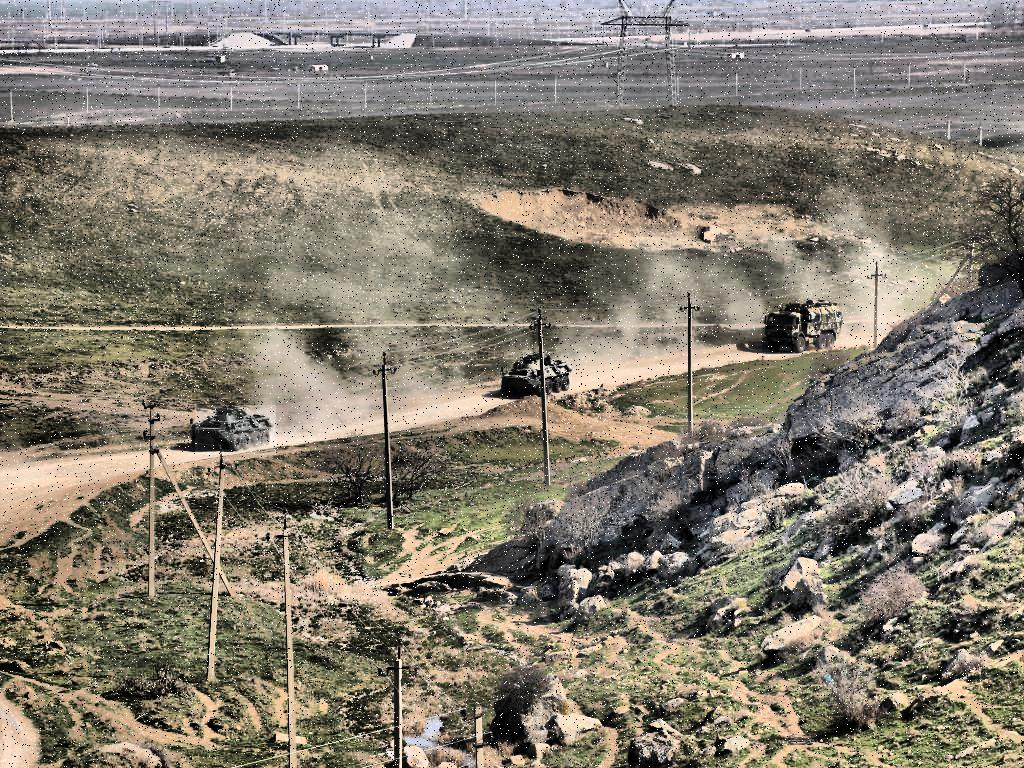military-vehicle: (762, 298, 842, 352), (195, 405, 276, 455), (500, 353, 571, 399)
